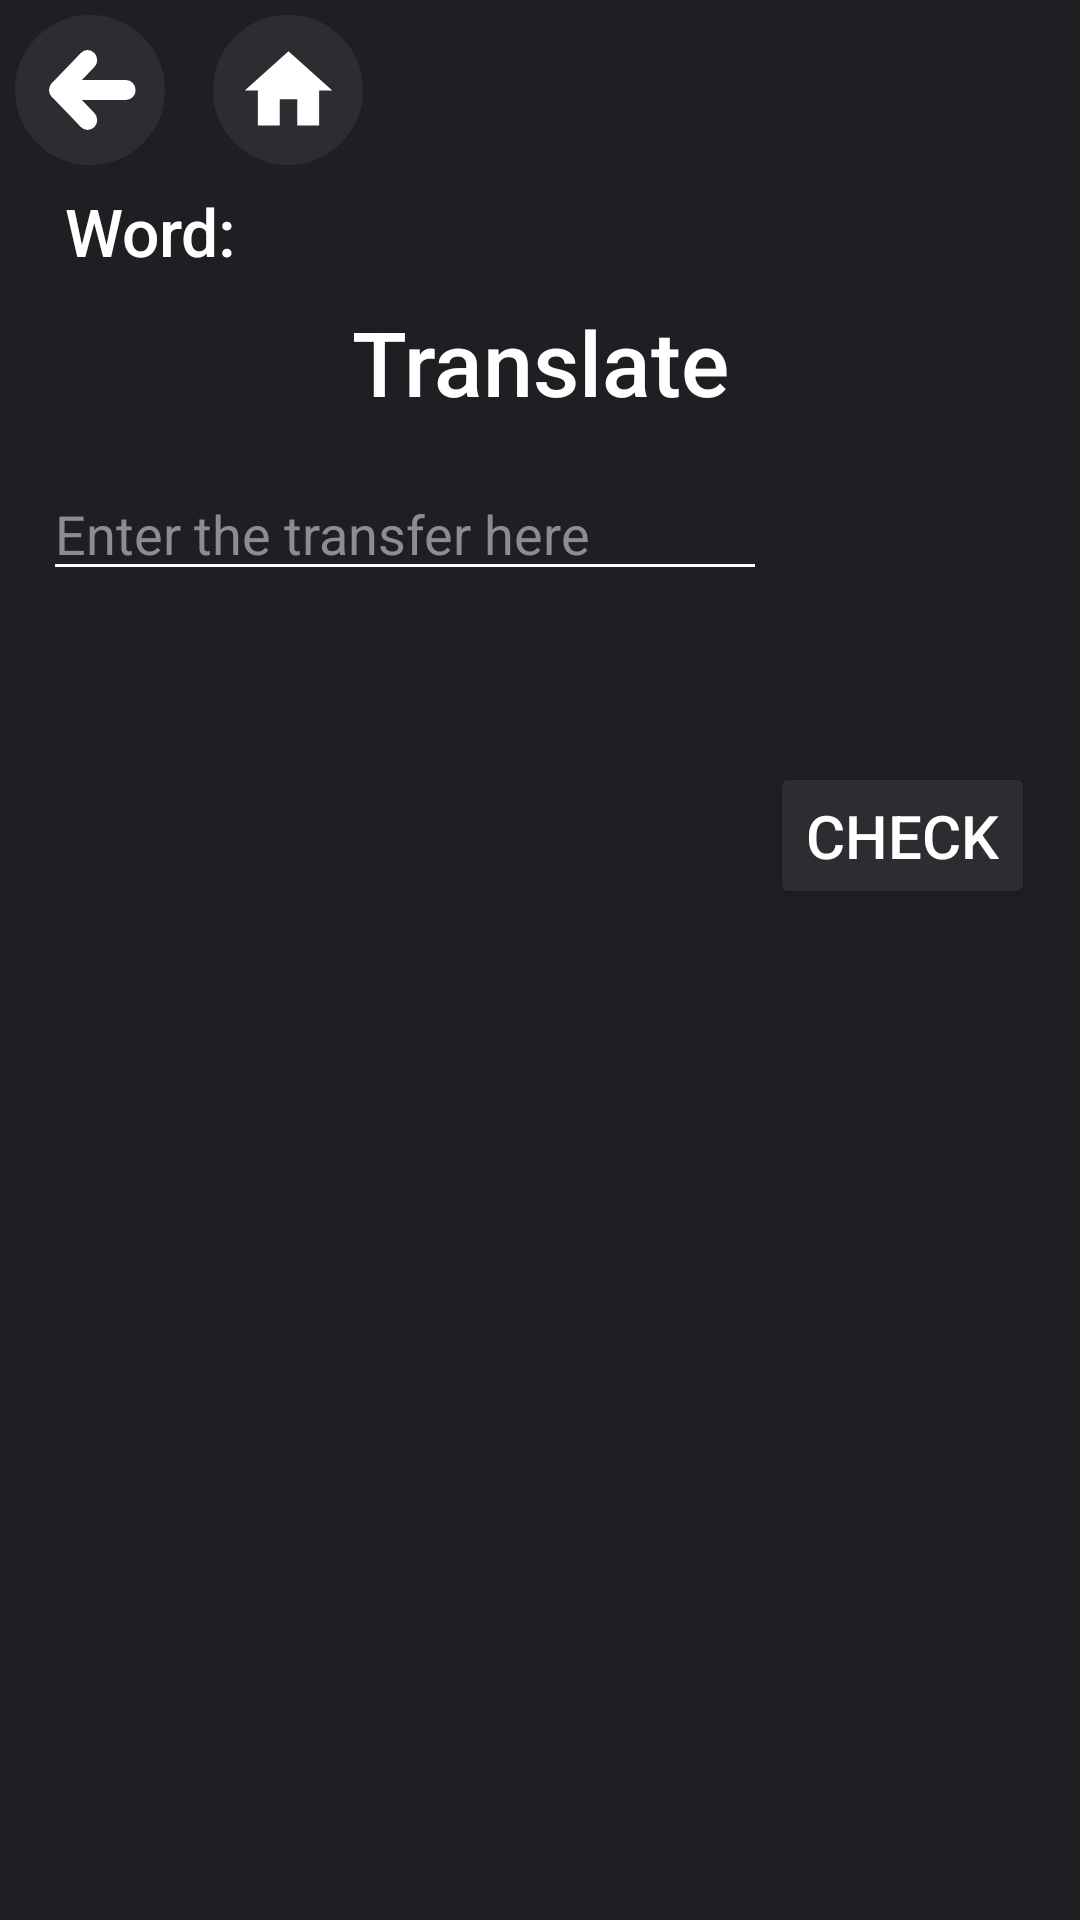

Locate icon controls on the screen. Image size 1080x1920, boxes as (x1, y1, x2, y2).
back: (15, 15, 165, 165)
home: (245, 51, 332, 126)
